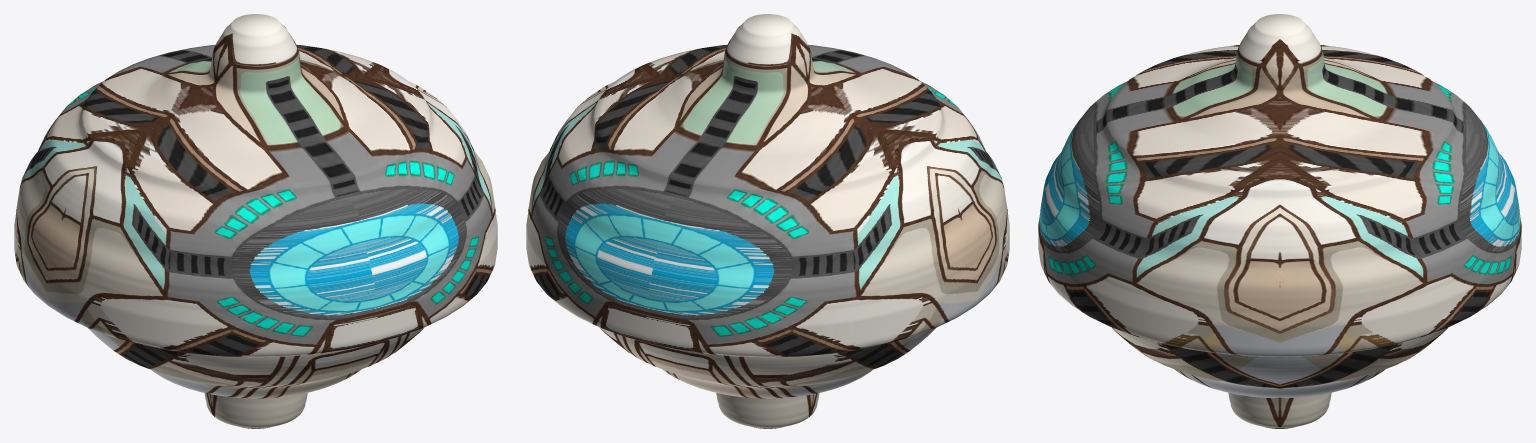
File: radial_machine.glb
3 renders of one model, left to right at view 1: azimuth 30°, elevation 25°; view 2: azimuth 150°, elevation 25°; view 3: azimuth 270°, elevation 25°, orthographic.
Parts seen in each view (by area): view 1: radial_machine; view 2: radial_machine; view 3: radial_machine.
Boxes of the visible parts, box(x1,y1,x2,y2) form: radial_machine: box(14, 14, 497, 428); radial_machine: box(526, 14, 1009, 428); radial_machine: box(1038, 14, 1521, 428).
Size of the model in its own units: 1 by 0.8977 by 1.
1 material, 1 textured.
